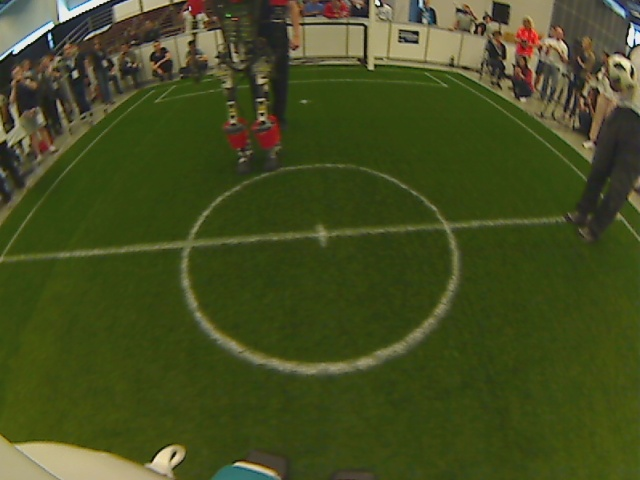ball: (603, 54, 638, 92)
